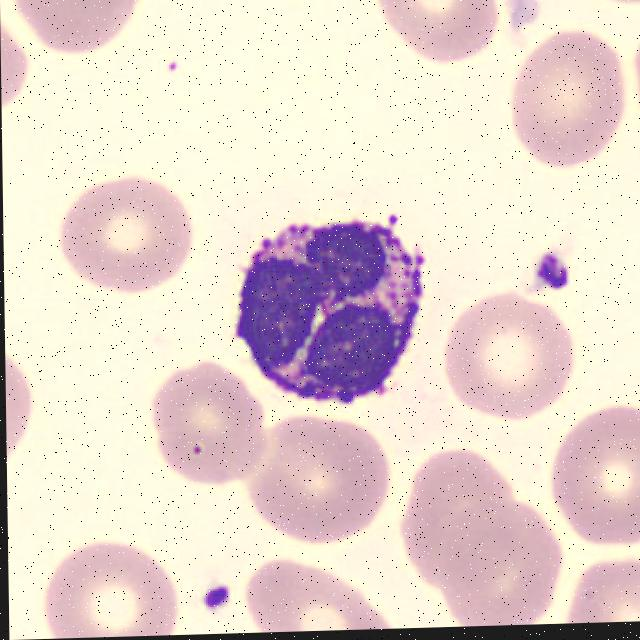basophil: (232, 198, 432, 412)
platelets: (533, 245, 588, 307), (510, 0, 549, 48), (200, 573, 234, 616)
rbc: (51, 174, 205, 296), (446, 289, 576, 425), (501, 33, 630, 170), (21, 536, 187, 640), (401, 446, 523, 587), (132, 358, 253, 499), (243, 537, 402, 633), (445, 496, 559, 627), (550, 391, 640, 550), (360, 0, 500, 68), (13, 0, 154, 55), (566, 551, 640, 623), (5, 326, 41, 462), (1, 19, 34, 106), (617, 15, 640, 125), (567, 0, 640, 12)
